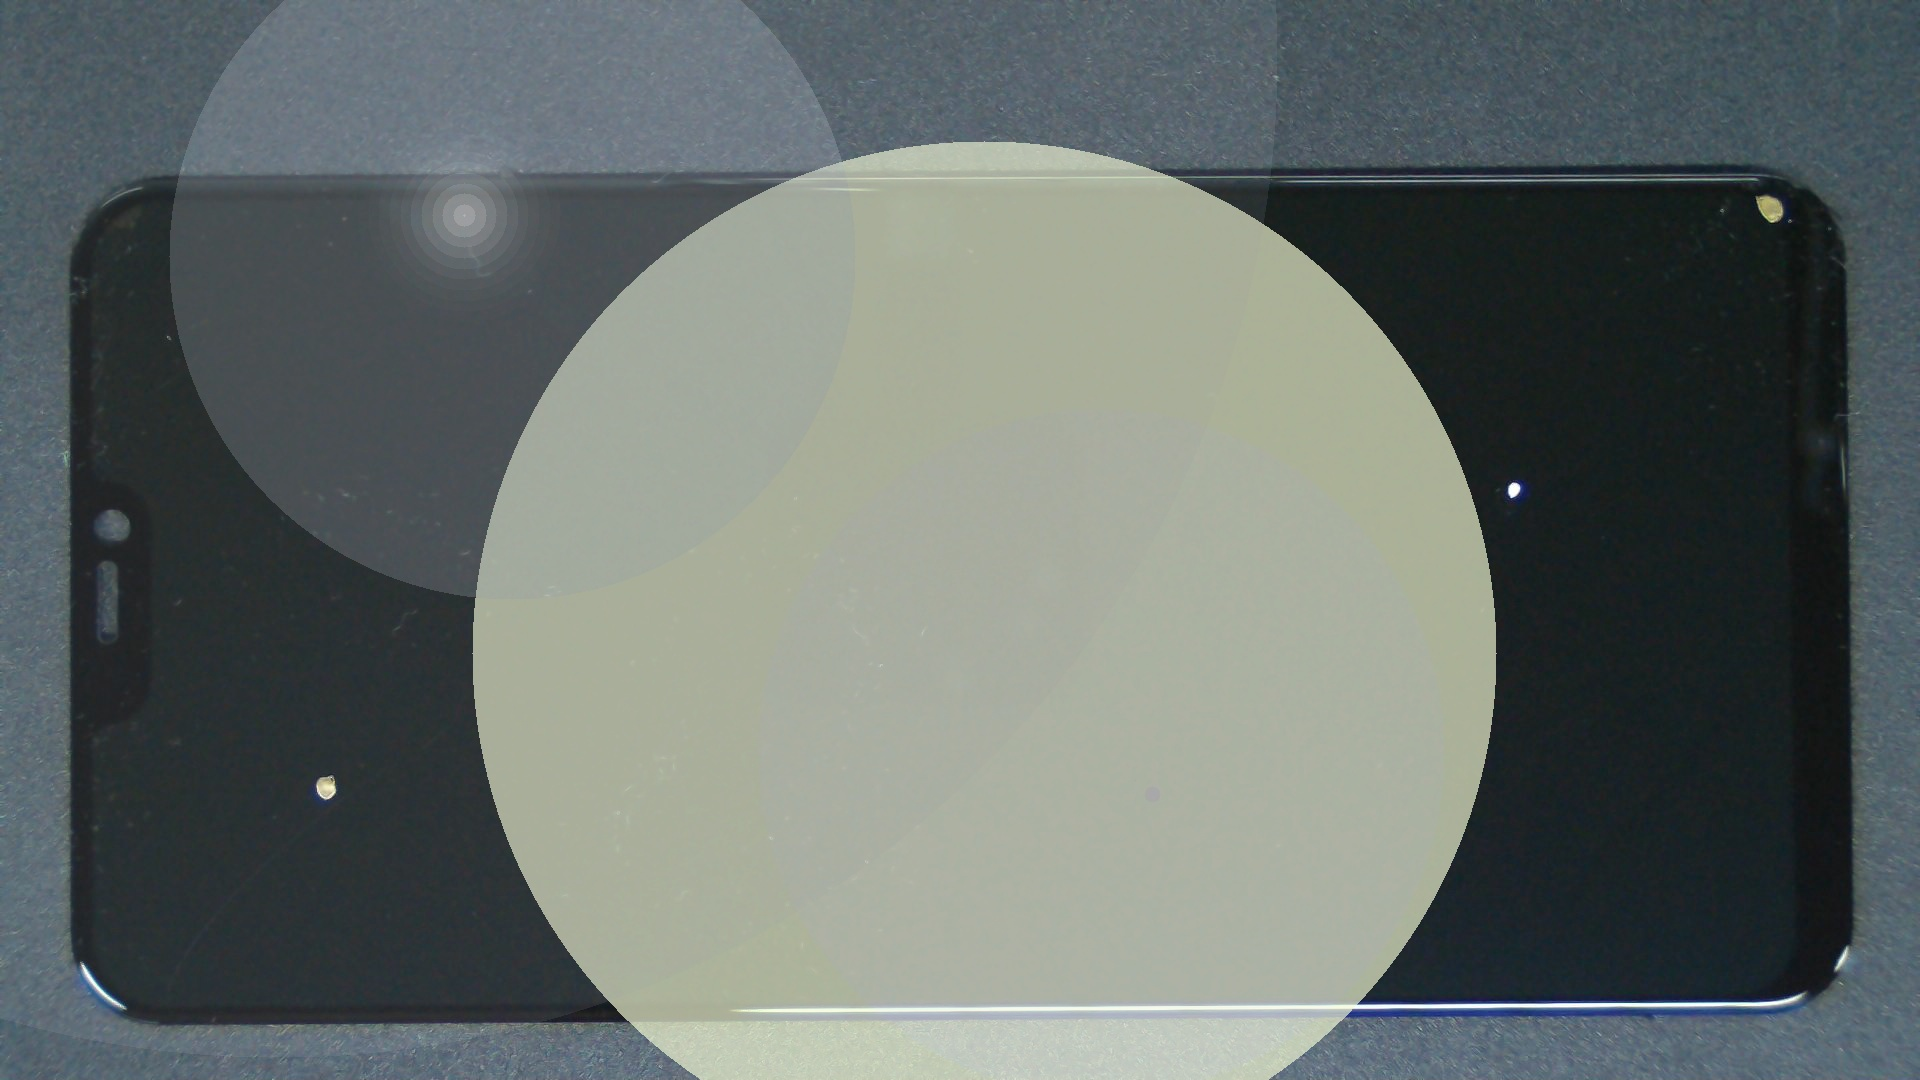oil: (758, 239, 1920, 720), (166, 385, 497, 1080), (884, 96, 1920, 290)
